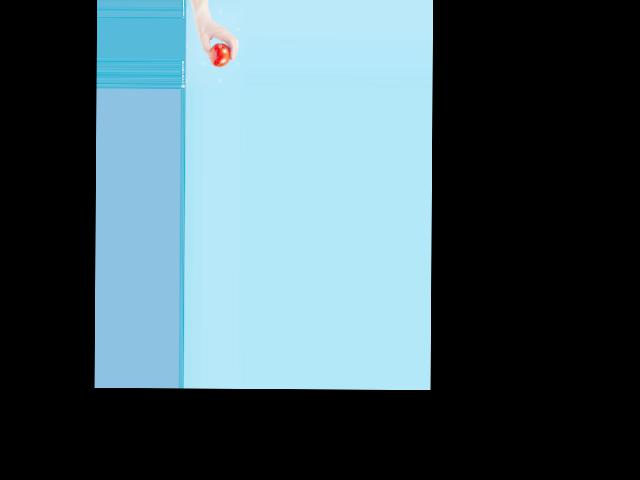tomato: (209, 43, 230, 66)
